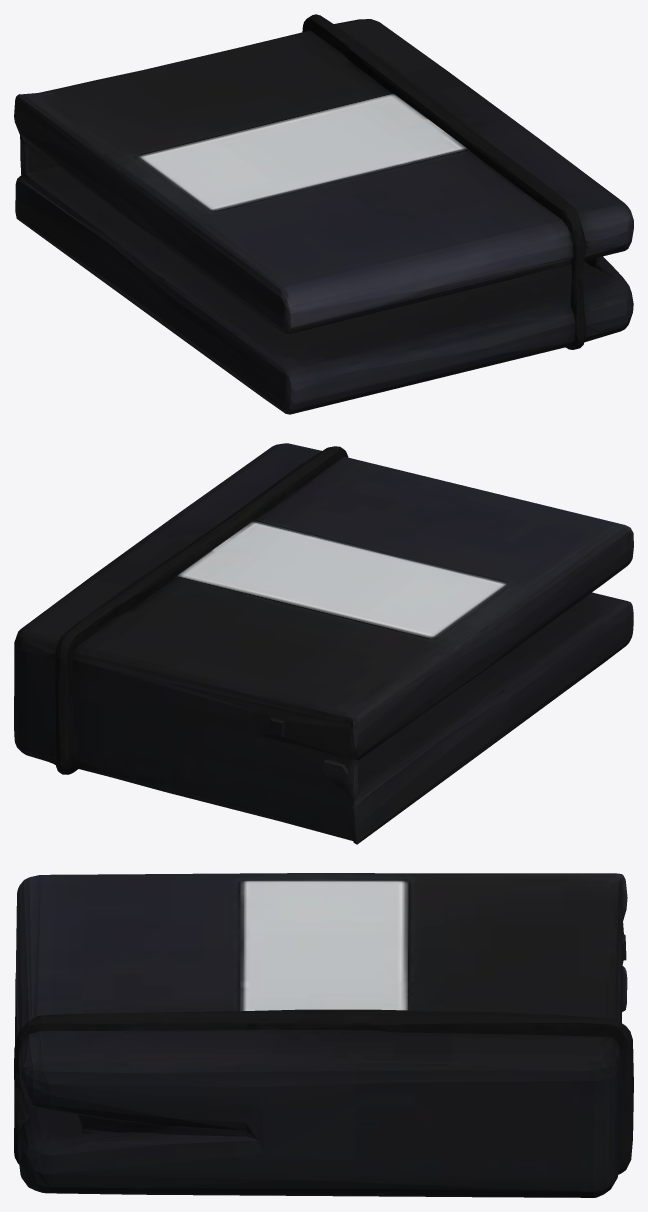
3 renders of one model, top to bottom at view 1: azimuth 30°, elevation 25°; view 2: azimuth 150°, elevation 25°; view 3: azimuth 270°, elevation 25°, orthographic. The views are drawn at different scales.
Parts seen in each view (by area): view 1: geometry_0; view 2: geometry_0; view 3: geometry_0.
Boxes of the visible parts, x1=… form: geometry_0: x1=14, y1=14, x2=633, y2=414; geometry_0: x1=14, y1=443, x2=633, y2=844; geometry_0: x1=14, y1=873, x2=633, y2=1197.
Bounding box in the file's own units: 0.7362 × 0.2891 × 0.9967.
1 material, 1 textured.
